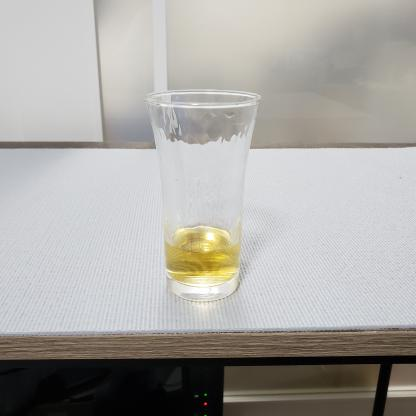glass: (141, 81, 276, 309)
